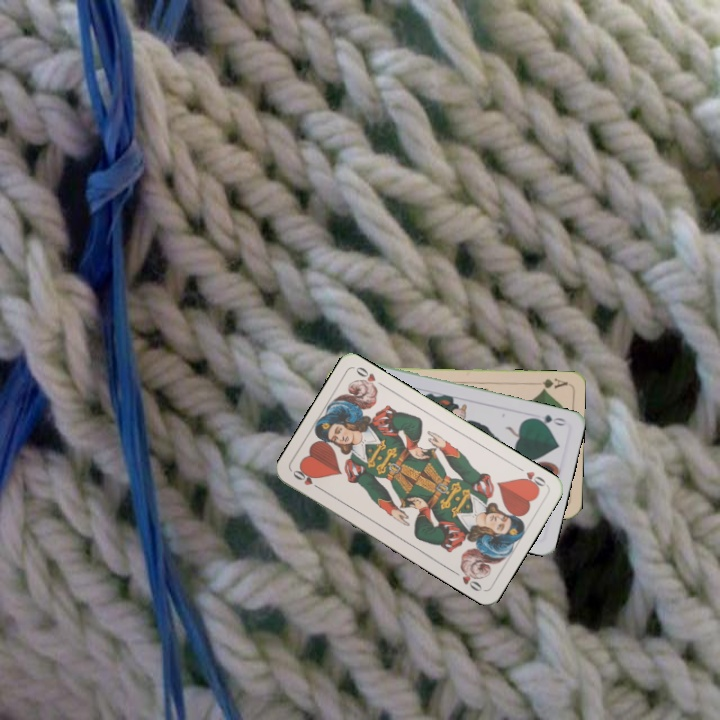GA: (538, 374, 569, 393)
GO: (528, 410, 569, 429)
HO: (513, 462, 549, 492), (288, 465, 325, 493)
